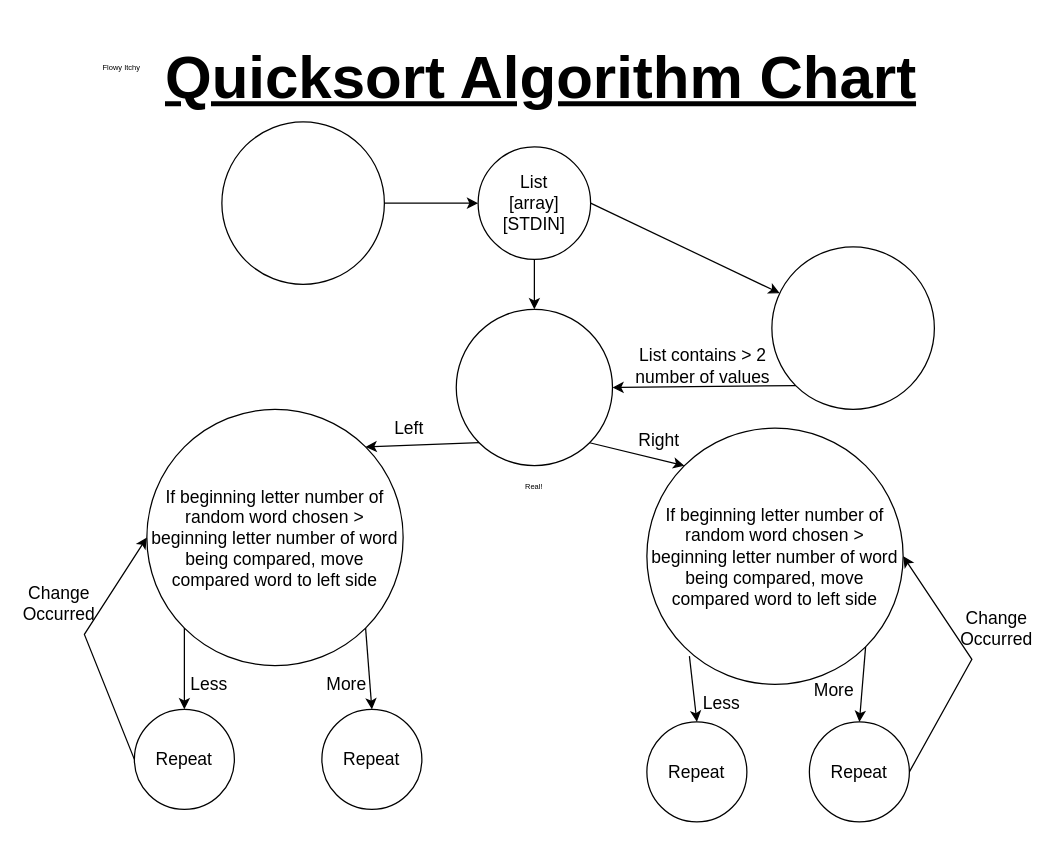
This 1055x844 diagram has some shape labels left out. Here are the shapes that lost their labels. From the top down, the centre of each, then its label:
At pixel 302 202: "Assign beginning letter of word to a number (ex. a=1, b=2)".
At pixel 852 327: "If list contains < 2 number of values, print list".
At pixel 533 387: "Choose random word in list, then compare to all other words".
